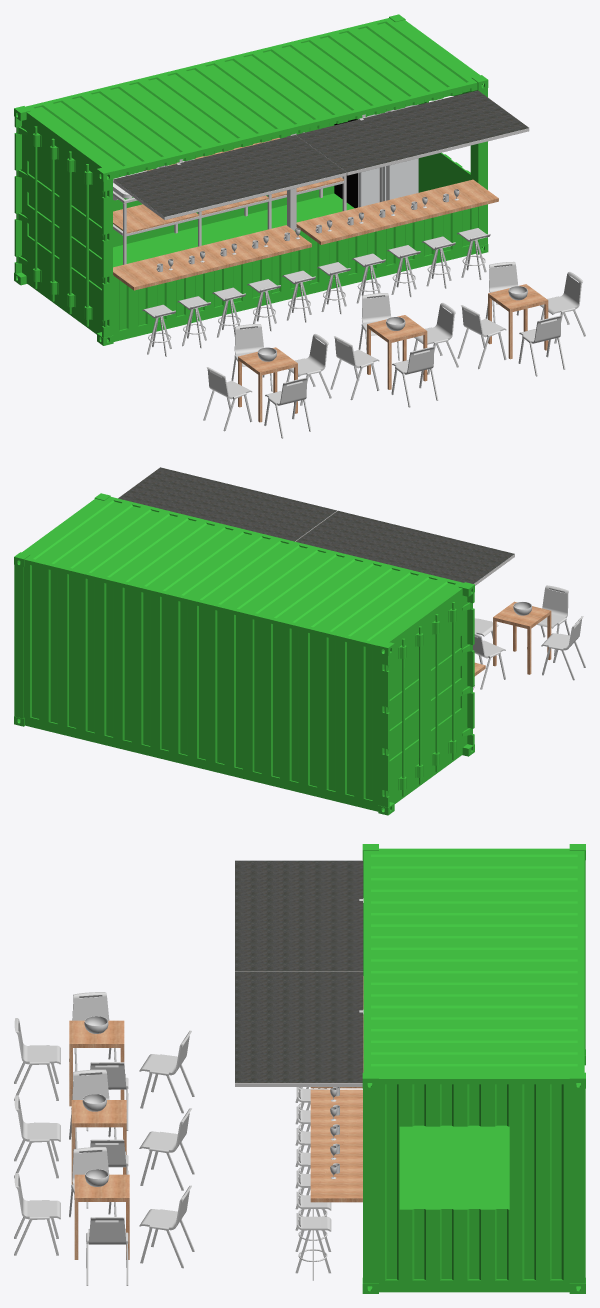
File: CANTINA.glb
3 views of the same model, one above another, from view 1: azimuth 30°, elevation 25°; view 2: azimuth 150°, elevation 25°; view 3: azimuth 270°, elevation 25° (orthographic). The views are drawn at different scales.
Visible parts, largest first — view 1: CANTINA; view 2: CANTINA; view 3: CANTINA.
Part boxes in pixels (x1,y1,x2,y2): CANTINA: [14, 14, 585, 438]; CANTINA: [14, 467, 585, 815]; CANTINA: [14, 844, 585, 1293].
Size of the model in its own units: 6.08 by 2.59 by 6.24.
Materials: 13 (2 with a texture image).
